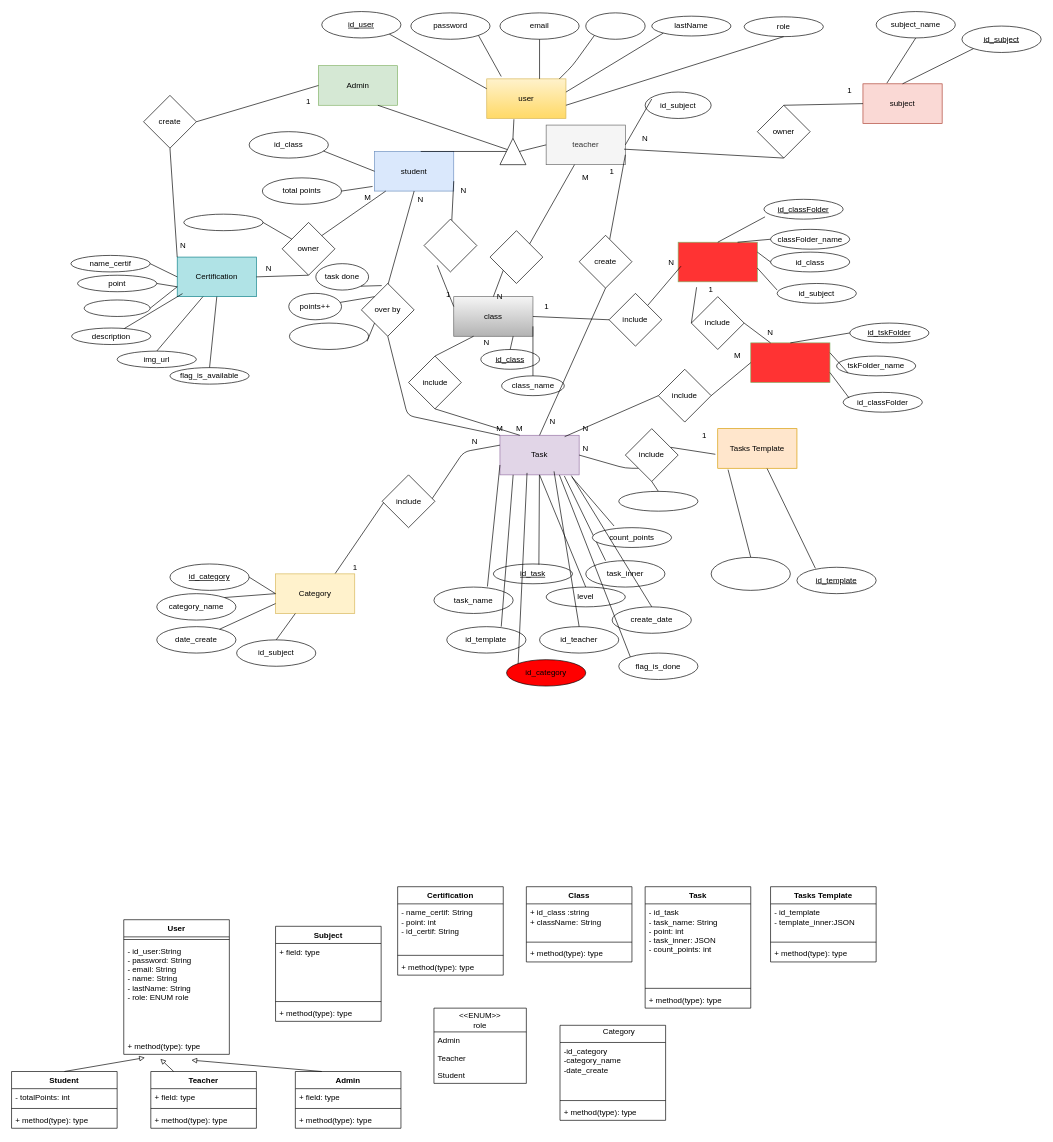
This 1053x1142 diagram has some shape labels left out. Each missing label, with the centre of its shape:
"Class Folder" goes at point (717, 262).
"date" goes at point (329, 335).
"date_get" goes at point (223, 222).
"id_cer" goes at point (116, 307).
"isa" goes at point (512, 151).
"name" goes at point (615, 25).
"study" goes at point (450, 245).
"Task's Folder" goes at point (790, 362).
"teach" goes at point (516, 256).
"template_inner" goes at point (750, 573).
"type_task" goes at point (658, 501).
